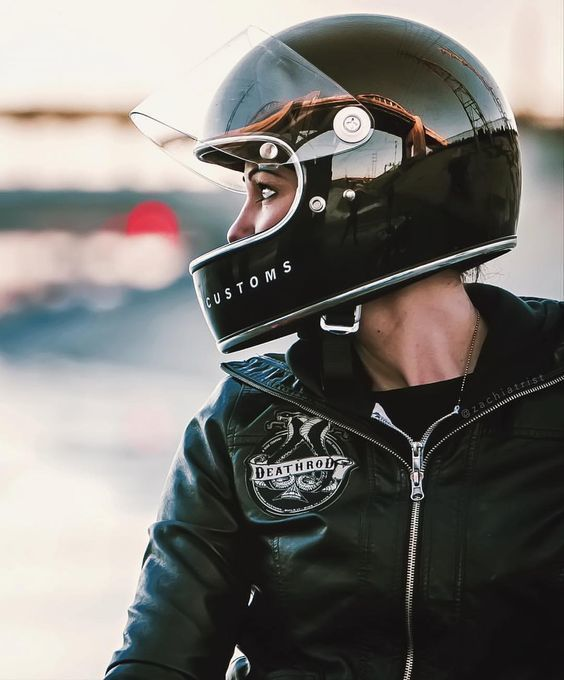helmet: (127, 14, 523, 353)
